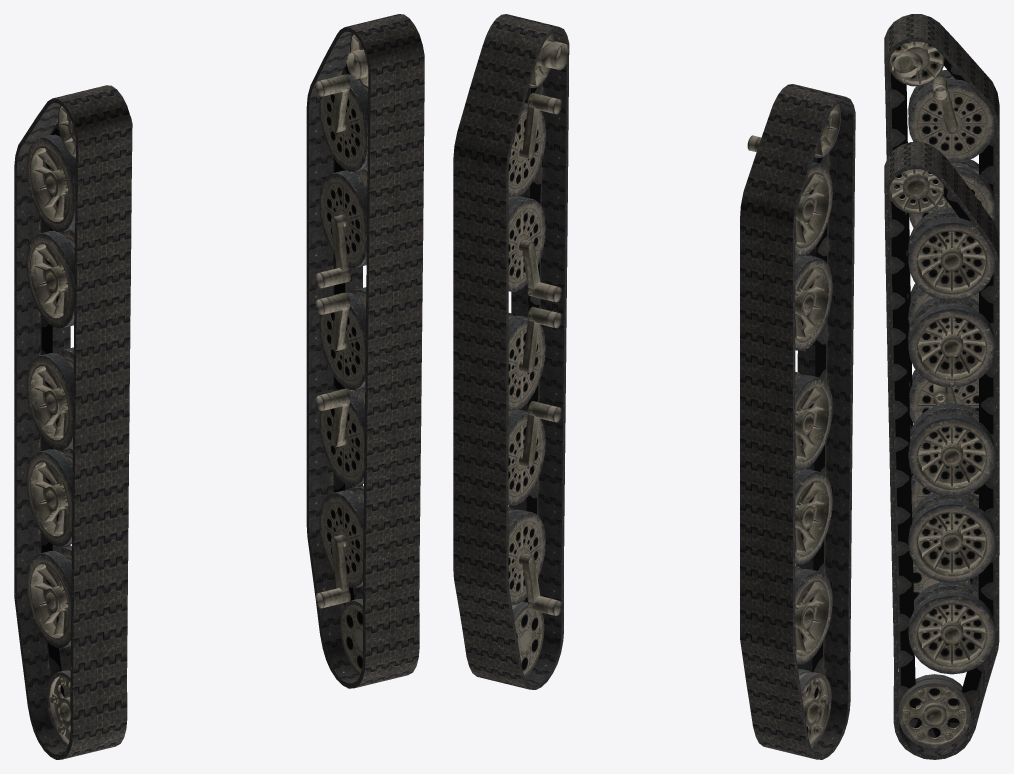
The model's file is Chassis.glb.
The picture shows the model from 3 angles, left to right: view 1: azimuth 30°, elevation 25°; view 2: azimuth 150°, elevation 25°; view 3: azimuth 270°, elevation 25°; orthographic projection. The views are drawn at different scales.
Parts seen in each view (by area): view 1: set_0_group_0, set_1_group_0, set_3_group_0, set_2_group_0; view 2: set_0_group_0, set_1_group_0, set_3_group_0, set_2_group_0; view 3: set_3_group_0, set_1_group_0, set_2_group_0, set_0_group_0.
Boxes of the visible parts, x1,y1,x2,y2 form: set_0_group_0: (14, 85, 132, 759); set_1_group_0: (306, 14, 424, 688); set_3_group_0: (315, 34, 368, 675); set_2_group_0: (26, 105, 132, 747); set_0_group_0: (740, 84, 855, 759); set_1_group_0: (453, 14, 569, 689); set_3_group_0: (508, 34, 569, 677); set_2_group_0: (747, 104, 840, 747); set_3_group_0: (888, 169, 994, 748); set_1_group_0: (884, 142, 999, 759); set_2_group_0: (888, 41, 994, 599); set_0_group_0: (884, 14, 999, 588).
Bounding box in the file's own units: 3.21 × 5.87 × 1.03.
Materials: 4 (4 with a texture image).
